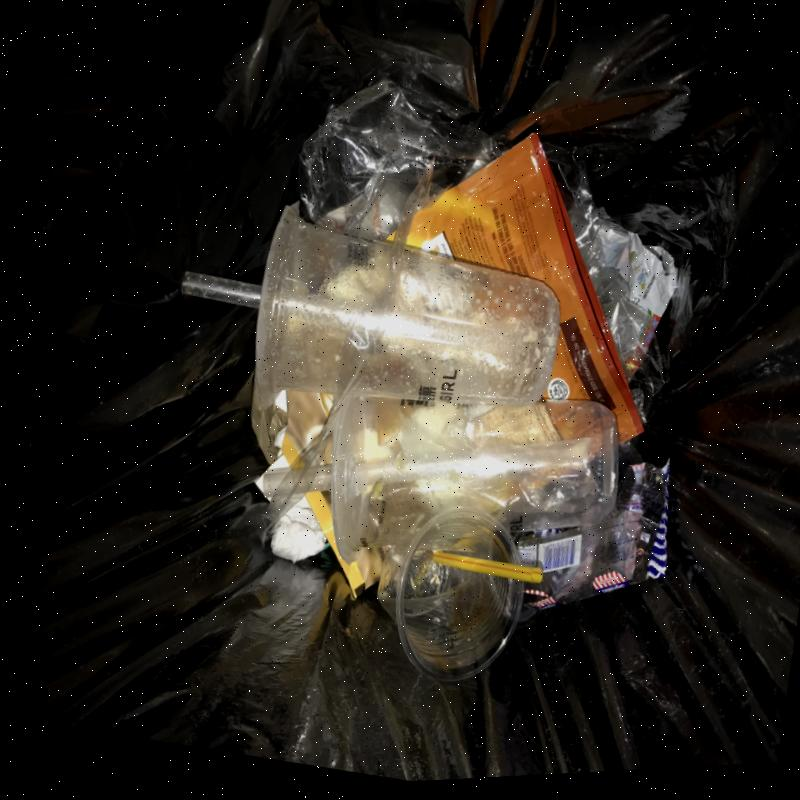food wrapper: (407, 133, 645, 444), (515, 440, 669, 609), (568, 177, 679, 381)
plastic bag: (298, 79, 511, 240)
plastic container: (256, 204, 562, 410), (332, 394, 620, 563)
plastic straw: (182, 270, 262, 308), (263, 462, 333, 497)
